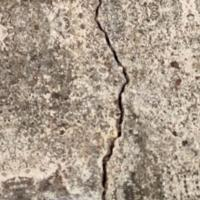crack: (78, 0, 152, 199)
